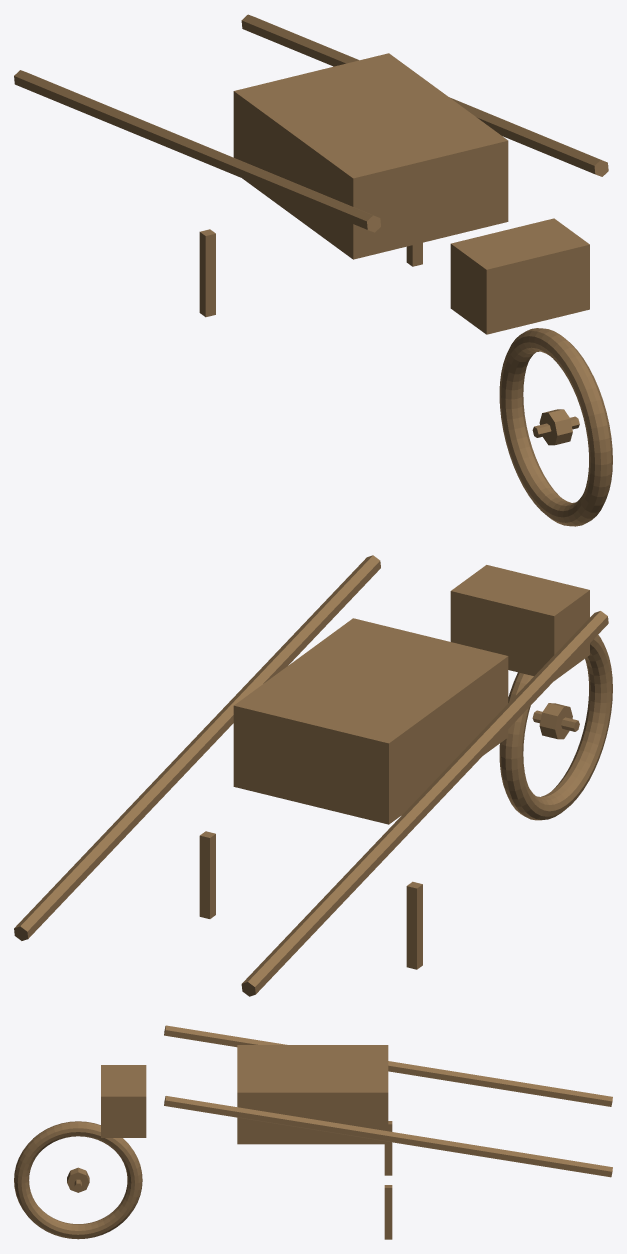
Rendered from wheelbarrow.glb.
3 renders of one model, top to bottom at view 1: azimuth 30°, elevation 25°; view 2: azimuth 150°, elevation 25°; view 3: azimuth 270°, elevation 25°, orthographic. The views are drawn at different scales.
Visible parts, largest first — view 1: wheelbarrow; view 2: wheelbarrow; view 3: wheelbarrow.
Boxes of the visible parts, x1,y1,x2,y2 form: wheelbarrow: [14, 14, 612, 526]; wheelbarrow: [14, 555, 612, 996]; wheelbarrow: [14, 1025, 612, 1239].
Size of the model in its own units: 0.466 by 0.519 by 1.58.
